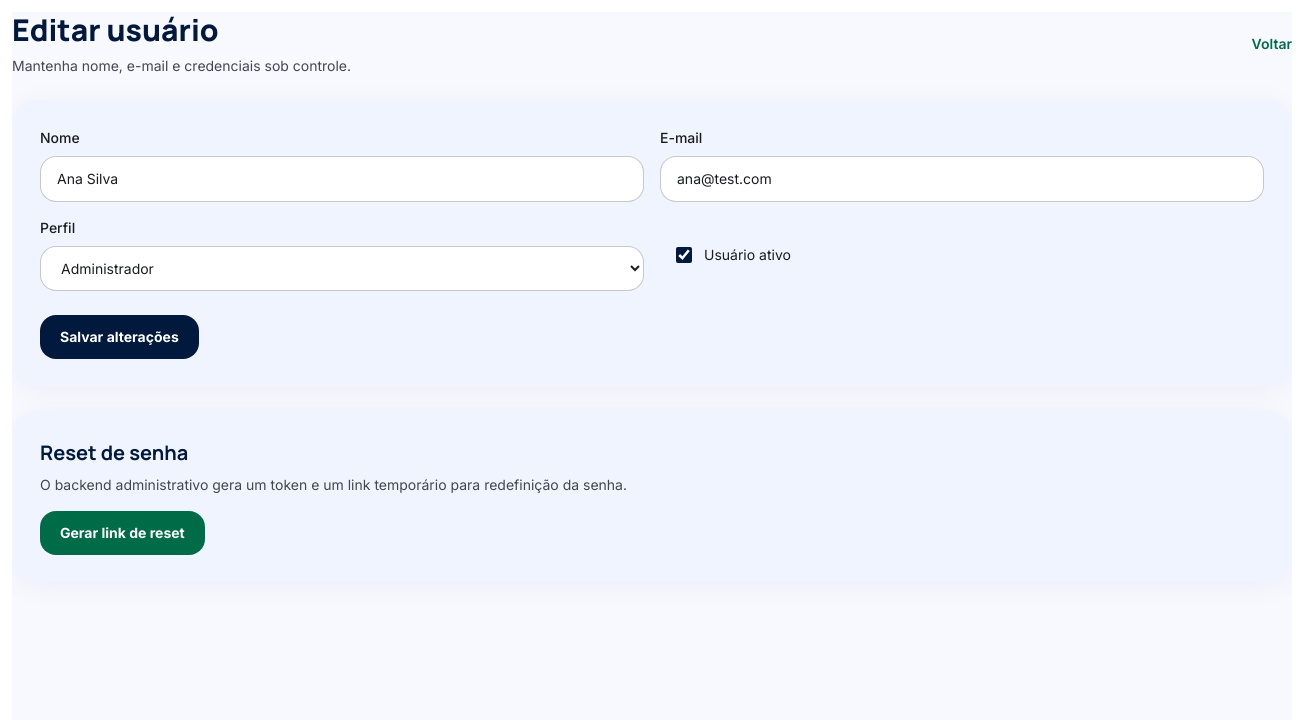
Scenario: UserForm - edição › exibe link de reset de senha ao clicar no botão correspondente
Expected: the heading "Reset de senha" is shown, [40,439,188,466]
Click the button "Gerar link de reset" at (122, 533), box [40,511,205,555]
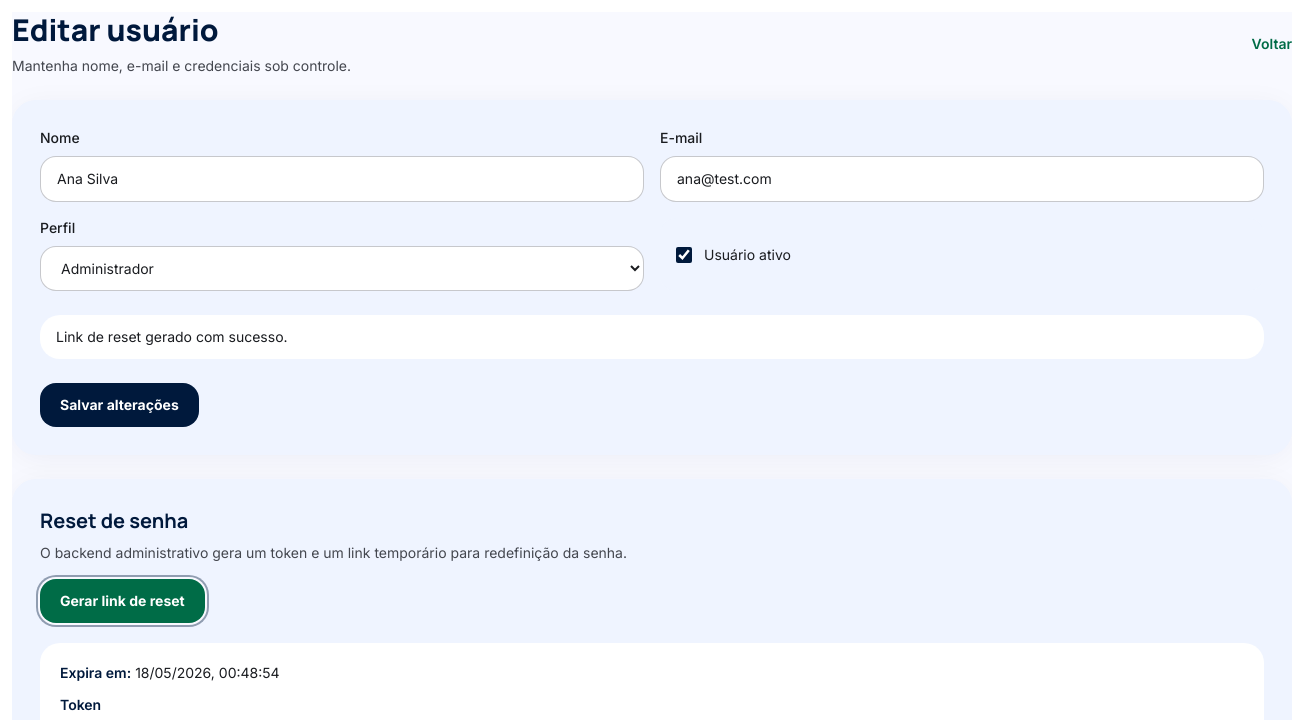
Expected: the text "Link de reset gerado com sucesso." is shown, [40,315,1264,359]
